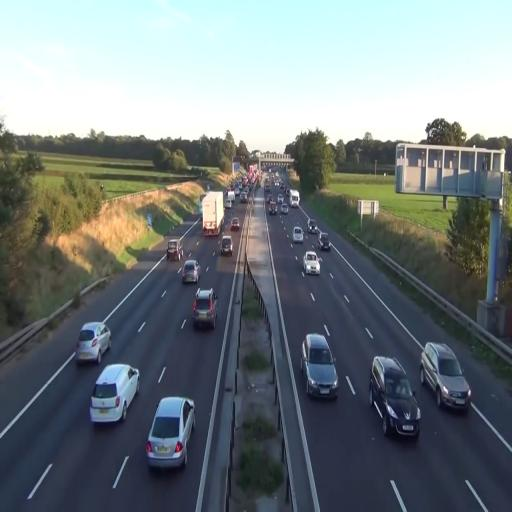vehicle: (368, 354, 422, 439), (146, 396, 196, 469), (420, 341, 471, 412), (90, 364, 140, 424), (302, 331, 338, 400), (76, 322, 111, 366), (200, 191, 224, 238), (200, 192, 224, 238), (192, 288, 217, 331), (180, 258, 200, 285), (303, 250, 321, 275), (220, 234, 234, 254), (318, 232, 330, 251), (292, 227, 304, 242)
